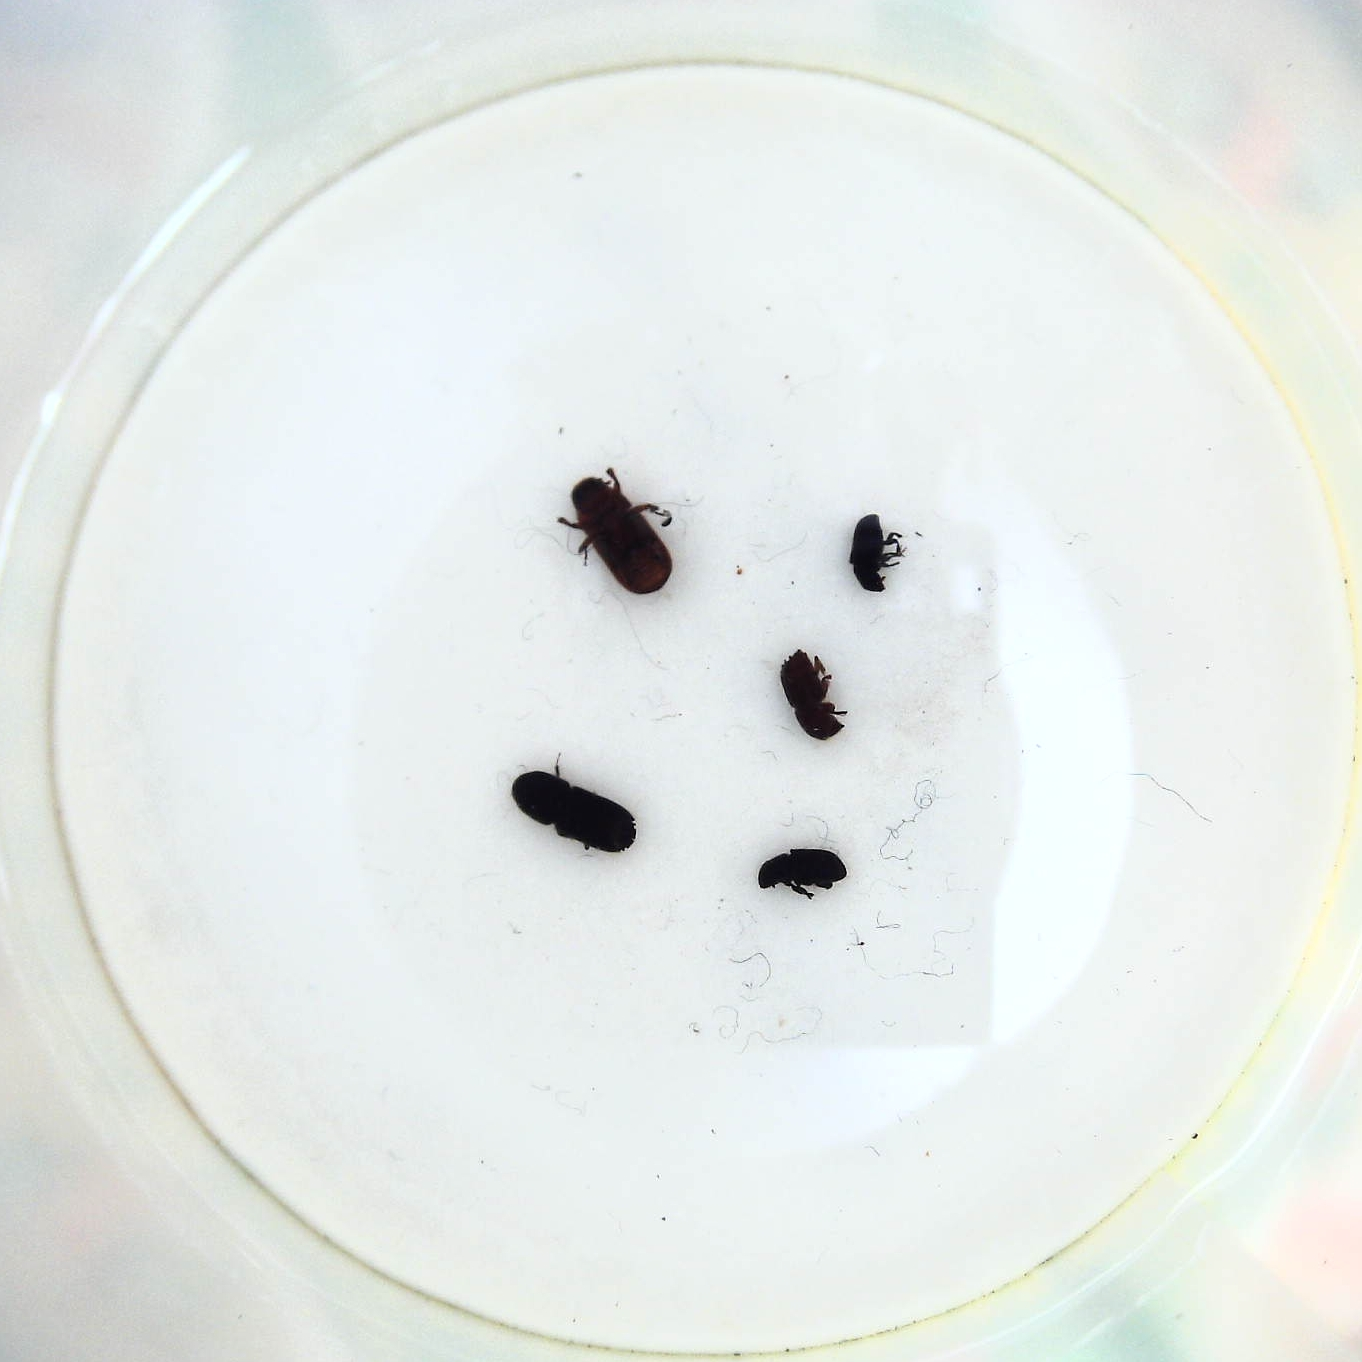Boerner: (506, 767, 639, 858)
Leconte: (551, 461, 681, 601)
armandi: (751, 843, 846, 904)
coleoptera: (849, 511, 910, 601)
linnaeus: (778, 644, 849, 748)
